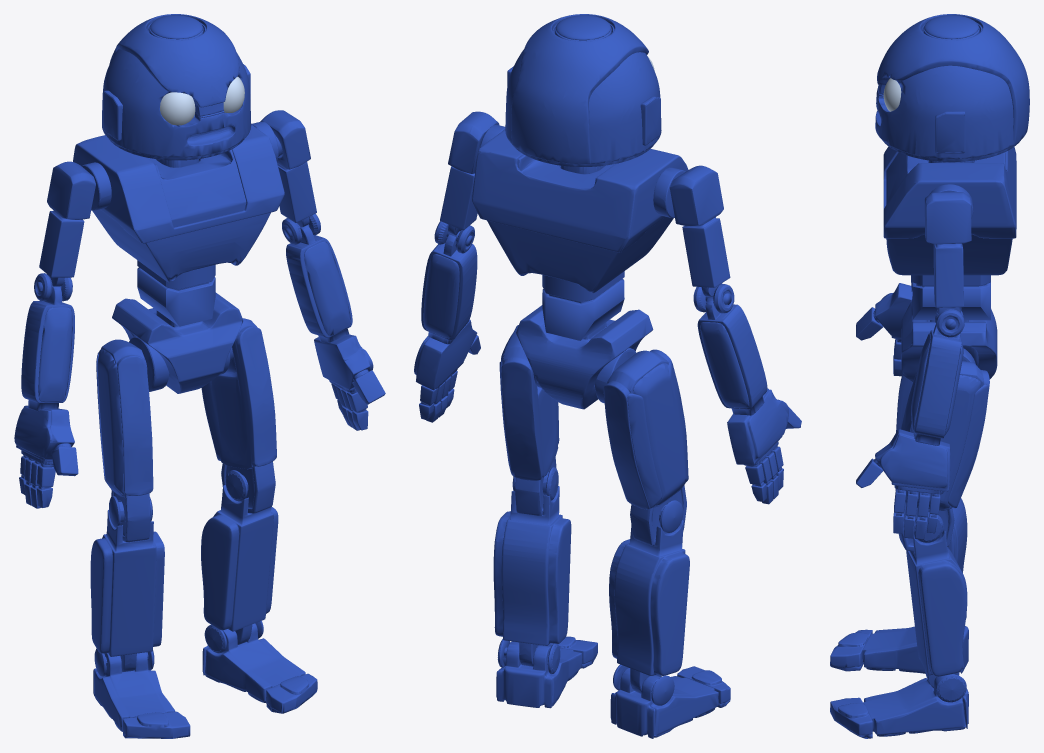
The model's file is newCharacter.fbx.
The picture shows the model from 3 angles, left to right: view 1: azimuth 30°, elevation 25°; view 2: azimuth 150°, elevation 25°; view 3: azimuth 270°, elevation 25°; orthographic projection. The views are drawn at different scales.
Parts seen in each view (by area): view 1: chest, head, lowerarmRight, lowerlegLeft, loverlegRight, lowerarmLeft, upperlegLeft, upperlegRight, hips, footLeft, footRight, upperarmRight (+2 smaller); view 2: chest, head, loverlegRight, lowerlegLeft, lowerarmRight, upperlegRight, lowerarmLeft, hips, footRight, upperlegLeft, footLeft, upperarmRight (+2 smaller); view 3: head, chest, lowerarmLeft, lowerlegLeft, footLeft, upperlegLeft, upperarmLeft, footRight, hips, belly, lowerarmRight, loverlegRight (+1 smaller).
Part boxes in pixels (bbox=[...]): chest: bbox=[73, 121, 284, 282]; head: bbox=[102, 14, 251, 160]; lowerarmRight: bbox=[14, 273, 78, 508]; lowerlegLeft: bbox=[201, 461, 278, 631]; loverlegRight: bbox=[90, 491, 164, 656]; lowerarmLeft: bbox=[282, 213, 385, 430]; upperlegLeft: bbox=[201, 318, 276, 469]; upperlegRight: bbox=[96, 339, 153, 497]; hips: bbox=[112, 292, 243, 393]; footLeft: bbox=[202, 621, 317, 713]; footRight: bbox=[93, 648, 190, 738]; upperarmRight: bbox=[39, 161, 95, 277]; chest: bbox=[472, 125, 688, 473]; head: bbox=[505, 14, 661, 166]; loverlegRight: bbox=[609, 485, 689, 675]; lowerlegLeft: bbox=[493, 457, 571, 645]; lowerarmRight: bbox=[693, 283, 801, 504]; upperlegRight: bbox=[603, 349, 688, 509]; lowerarmLeft: bbox=[414, 221, 480, 422]; hips: bbox=[516, 305, 653, 409]; footRight: bbox=[610, 664, 730, 738]; upperlegLeft: bbox=[499, 325, 559, 480]; footLeft: bbox=[496, 636, 597, 708]; upperarmRight: bbox=[670, 165, 730, 287]; head: bbox=[875, 14, 1029, 161]; chest: bbox=[883, 146, 1016, 275]; lowerarmLeft: bbox=[856, 307, 964, 539]; lowerlegLeft: bbox=[898, 503, 967, 676]; footLeft: bbox=[830, 670, 968, 738]; upperlegLeft: bbox=[895, 361, 989, 510]; upperarmLeft: bbox=[924, 192, 971, 307]; footRight: bbox=[830, 614, 968, 673]; hips: bbox=[901, 296, 997, 382]; belly: bbox=[912, 275, 990, 320]; lowerarmRight: bbox=[856, 275, 912, 376]; loverlegRight: bbox=[948, 498, 967, 572].
Size of the model in its own units: 196 by 377 by 102.
